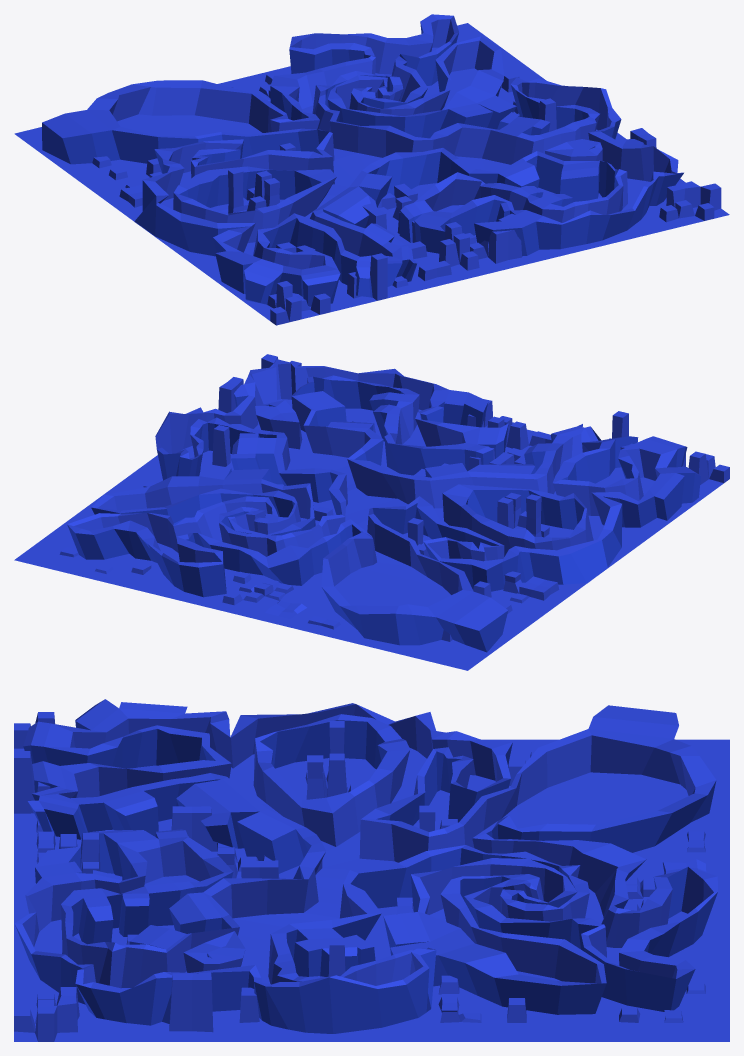
The model's file is IceMaze3.fbx.
The picture shows the model from 3 angles, top to bottom: view 1: azimuth 30°, elevation 25°; view 2: azimuth 150°, elevation 25°; view 3: azimuth 270°, elevation 25°; orthographic projection. The views are drawn at different scales.
Visible parts, largest first — view 1: Plane.003, Plane.001, Plane.002; view 2: Plane.003, Plane.001, Plane.002; view 3: Plane.003, Plane.001, Plane.002.
Boxes of the visible parts, left/top/right/bottom form: Plane.003: left=42, top=14, right=683, bottom=285; Plane.001: left=42, top=22, right=683, bottom=306; Plane.002: left=14, top=23, right=729, bottom=325; Plane.003: left=67, top=359, right=698, bottom=630; Plane.001: left=67, top=376, right=700, bottom=652; Plane.002: left=14, top=354, right=729, bottom=670; Plane.003: left=14, top=699, right=717, bottom=992; Plane.001: left=15, top=720, right=717, bottom=1033; Plane.002: left=14, top=712, right=729, bottom=1041.
Bounding box in the file's own units: 5908 × 616 × 5903.
